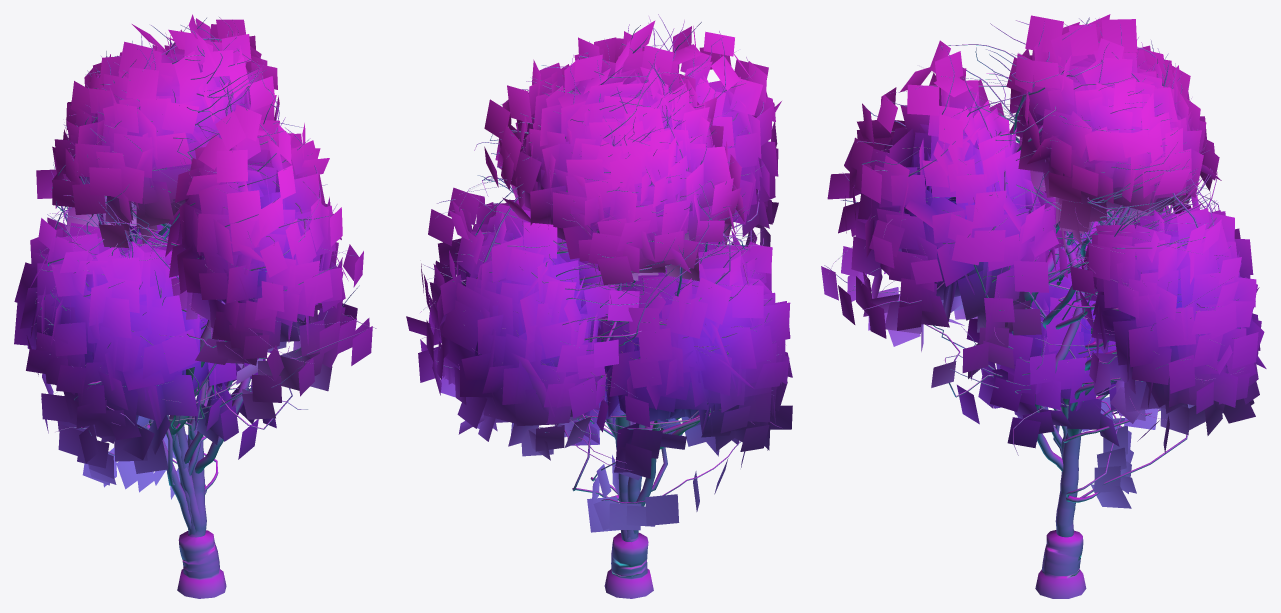
The model's file is tree_birch_s8_a60_x10_wild.fbx.
The picture shows the model from 3 angles, left to right: view 1: azimuth 30°, elevation 25°; view 2: azimuth 150°, elevation 25°; view 3: azimuth 270°, elevation 25°; orthographic projection.
Visible parts, largest first — view 1: tree_birch_s8_a60_x10_wild_leaves, tree_birch_s8_a60_x10_wild_branches; view 2: tree_birch_s8_a60_x10_wild_leaves, tree_birch_s8_a60_x10_wild_branches; view 3: tree_birch_s8_a60_x10_wild_leaves, tree_birch_s8_a60_x10_wild_branches.
Boxes of the visible parts, x1,y1,x2,y2 form: tree_birch_s8_a60_x10_wild_leaves: (14, 14, 372, 499); tree_birch_s8_a60_x10_wild_branches: (34, 17, 376, 598); tree_birch_s8_a60_x10_wild_leaves: (406, 20, 792, 532); tree_birch_s8_a60_x10_wild_branches: (420, 14, 781, 598); tree_birch_s8_a60_x10_wild_leaves: (821, 14, 1266, 508); tree_birch_s8_a60_x10_wild_branches: (824, 17, 1244, 598).
Bounding box in the file's own units: 5.52 × 9.42 × 6.7.
